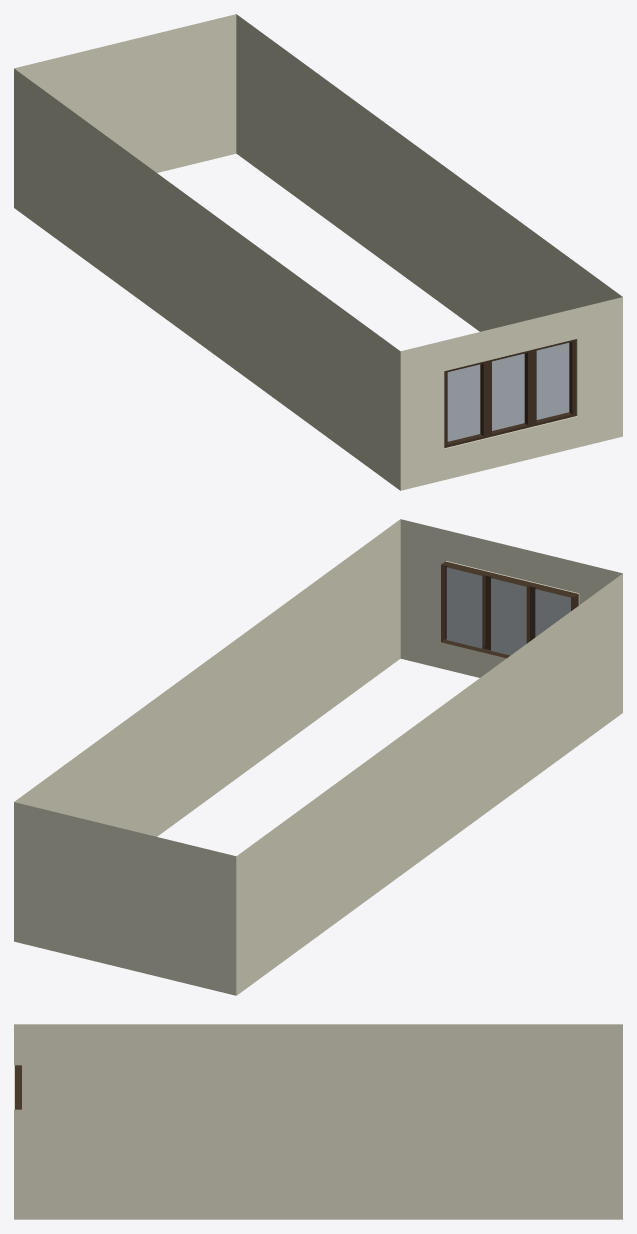
File: fbx_building_2_floor2.fbx
The picture shows the model from 3 angles, top to bottom: view 1: azimuth 30°, elevation 25°; view 2: azimuth 150°, elevation 25°; view 3: azimuth 270°, elevation 25°; orthographic projection. The views are drawn at different scales.
Parts seen in each view (by area): view 1: fbx_building_2_floor2; view 2: fbx_building_2_floor2; view 3: fbx_building_2_floor2.
Part boxes in pixels (left/top/right/bottom): fbx_building_2_floor2: left=14, top=14, right=622, bottom=490; fbx_building_2_floor2: left=14, top=519, right=622, bottom=995; fbx_building_2_floor2: left=14, top=1024, right=622, bottom=1219.
Size of the model in its own units: 1.72 by 1.03 by 5.18.
2 materials, 1 textured.
